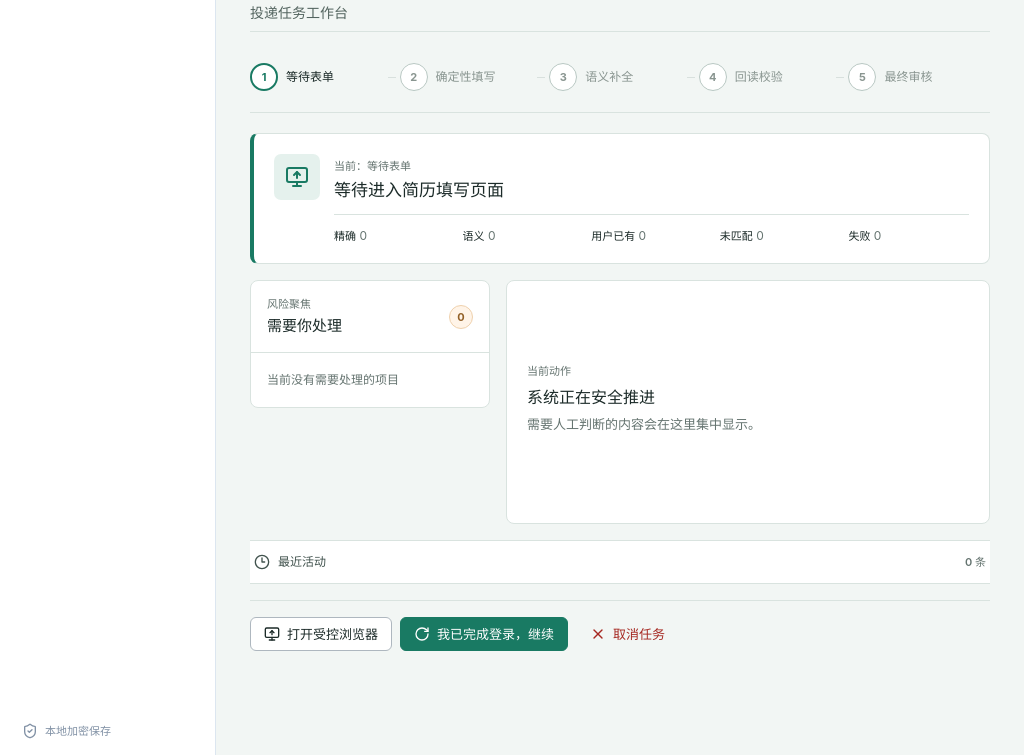
Test: ApplicationTaskPage › cancels through the typed command and removes all task controls
(page scrolled)
Click the button "取消任务": (628,634) left=576, top=617, right=679, bottom=651
(page scrolled)
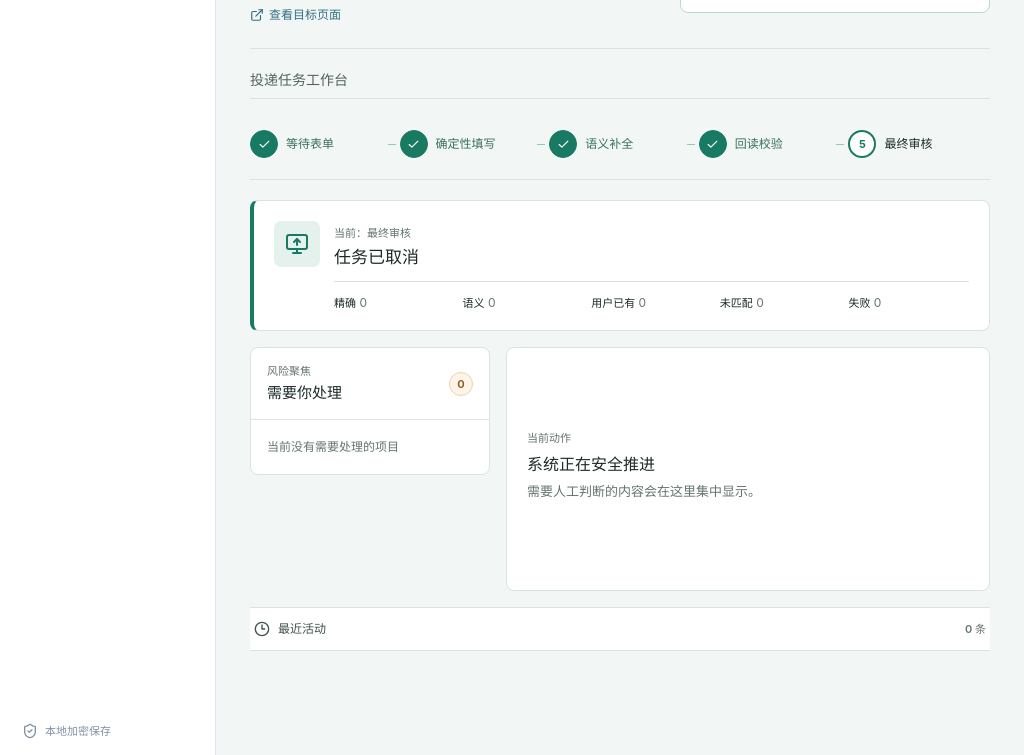
Expected: the heading "任务已取消" is shown, left=334, top=247, right=419, bottom=267
Expected: the element "当前可用操作" is gone
